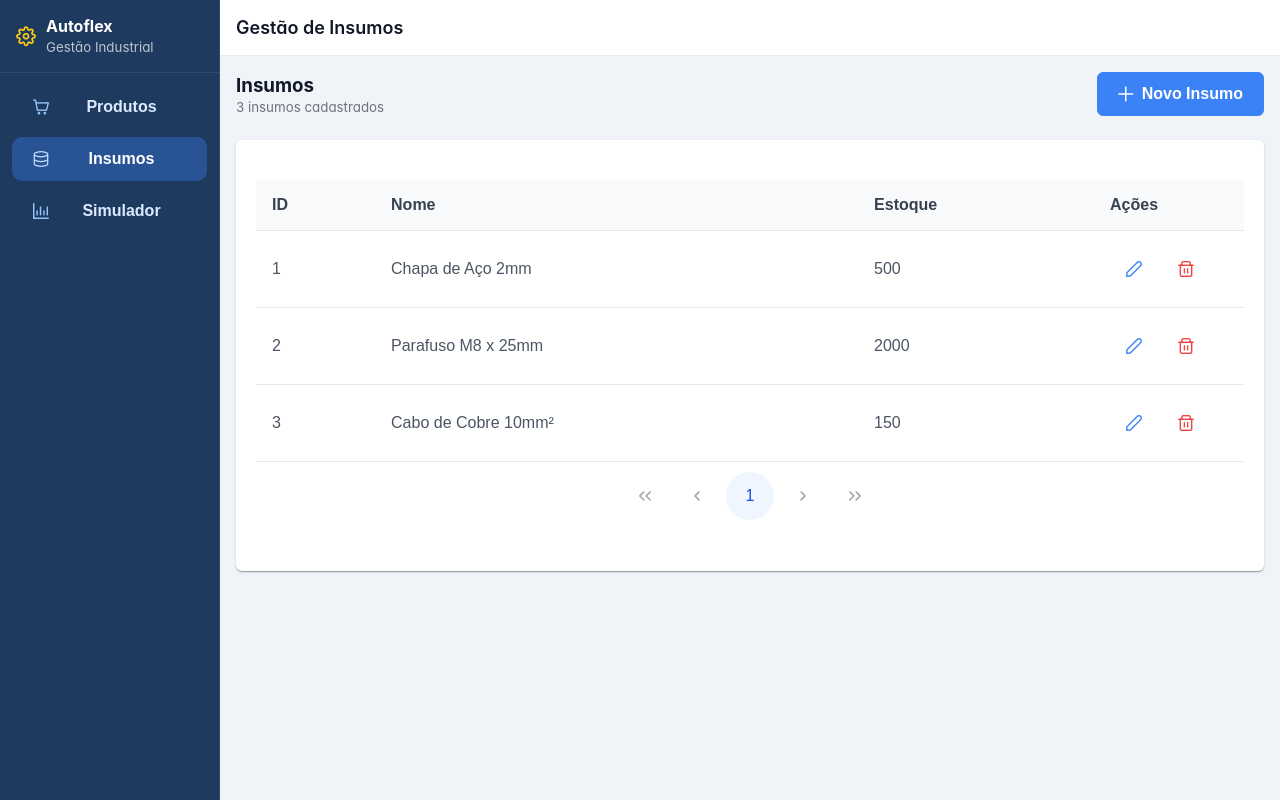
Test case: Raw Materials › opens and closes create modal
Click the button with test id "add-raw-material-button" at [1181, 94], box [1097,72,1264,116]
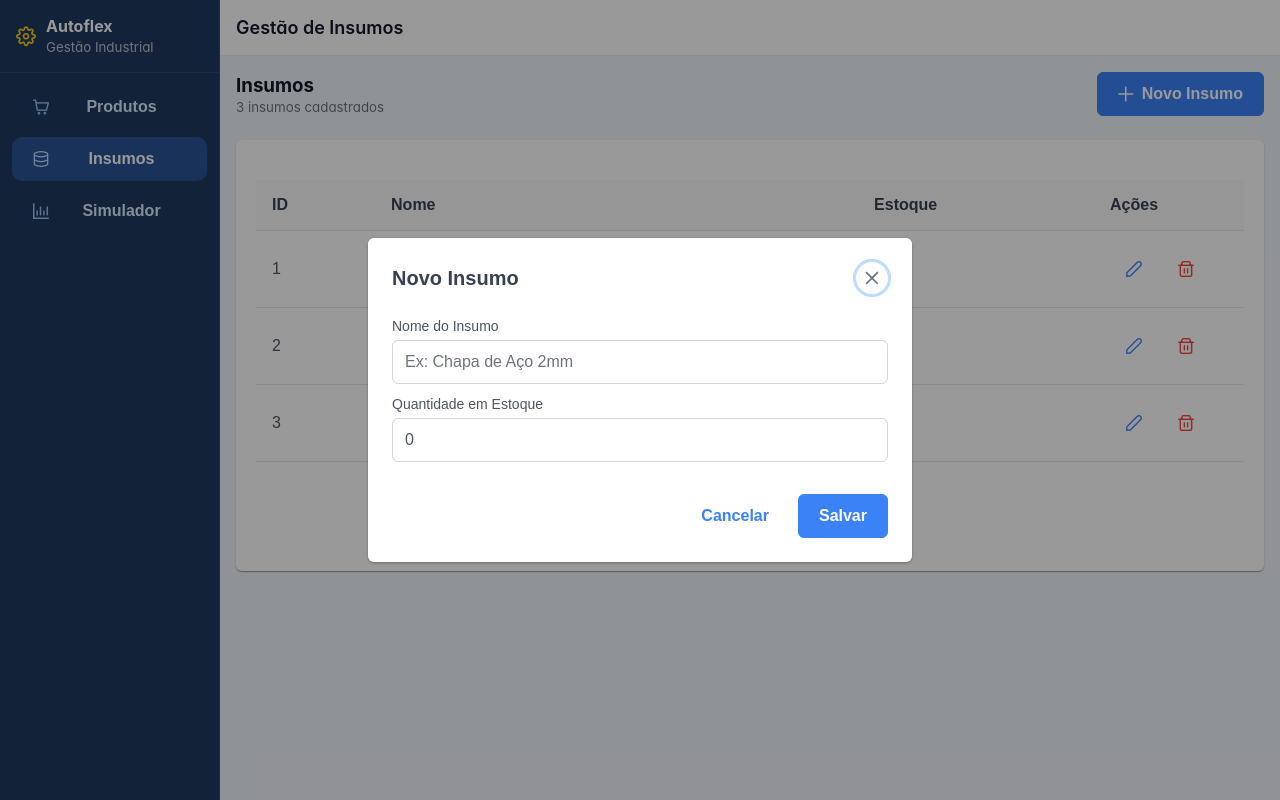
Expected: the dialog shows "Novo Insumo", [368,238,912,562]
Click the button with test id "modal-cancel-button" at [735, 516], box [680,494,790,538]
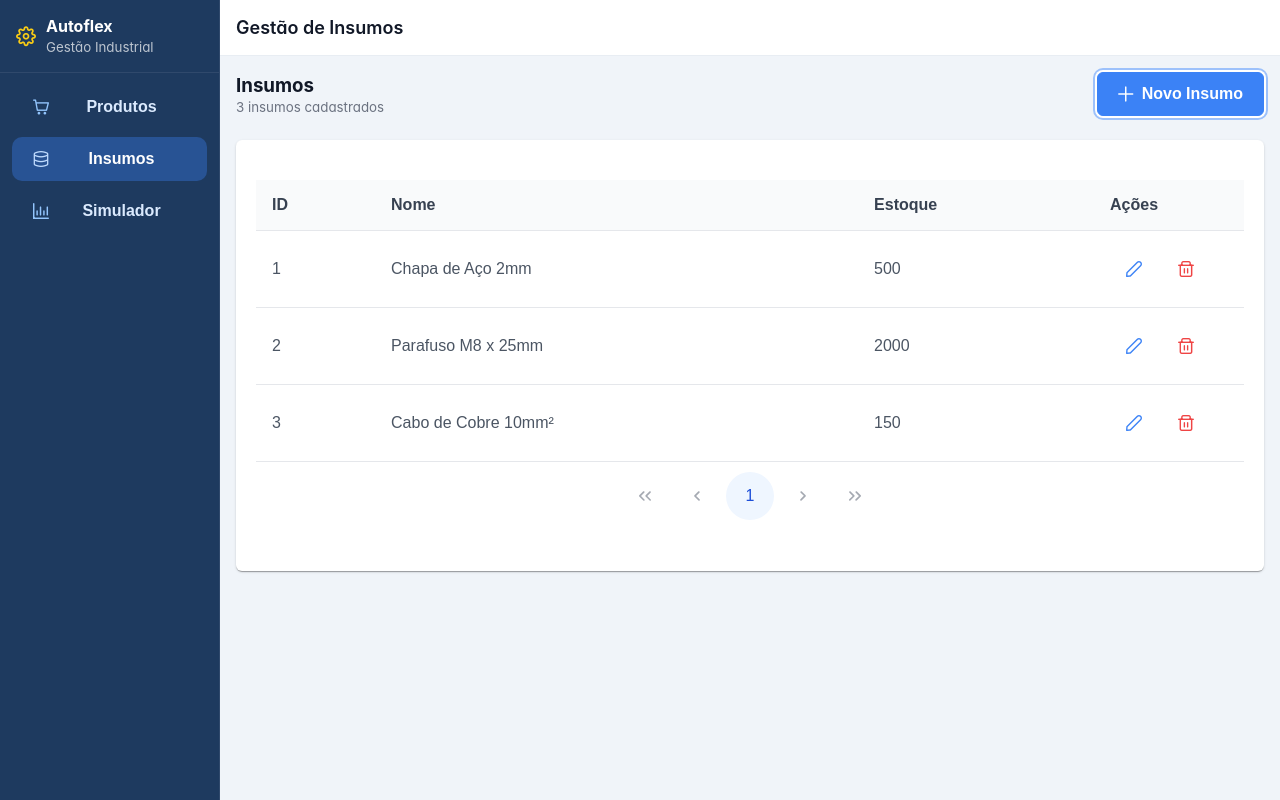
Expected: the dialog is gone
